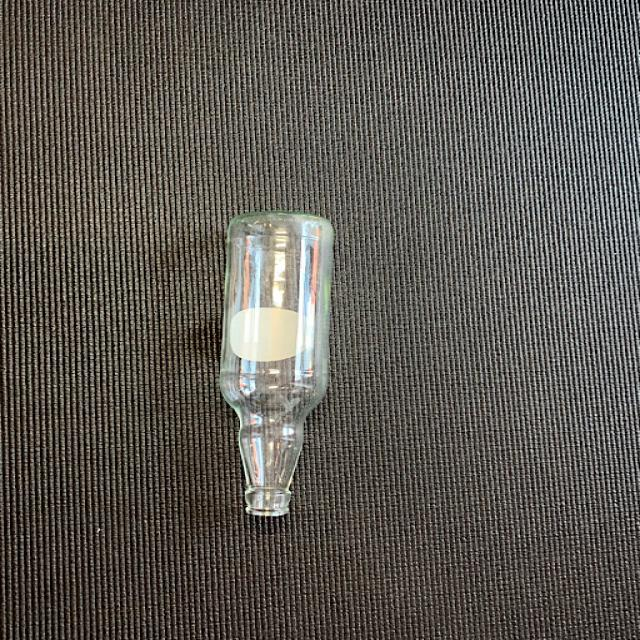litter: (214, 211, 335, 522)
